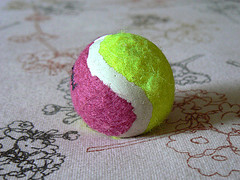tennis ball: (69, 30, 178, 141)
